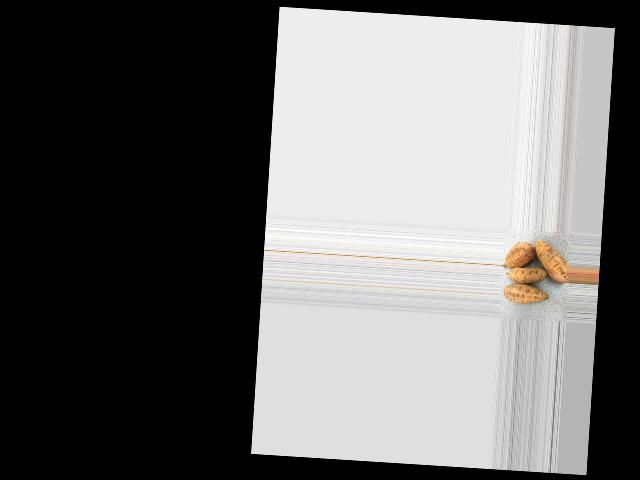sweet_potato: (532, 235, 571, 287)
